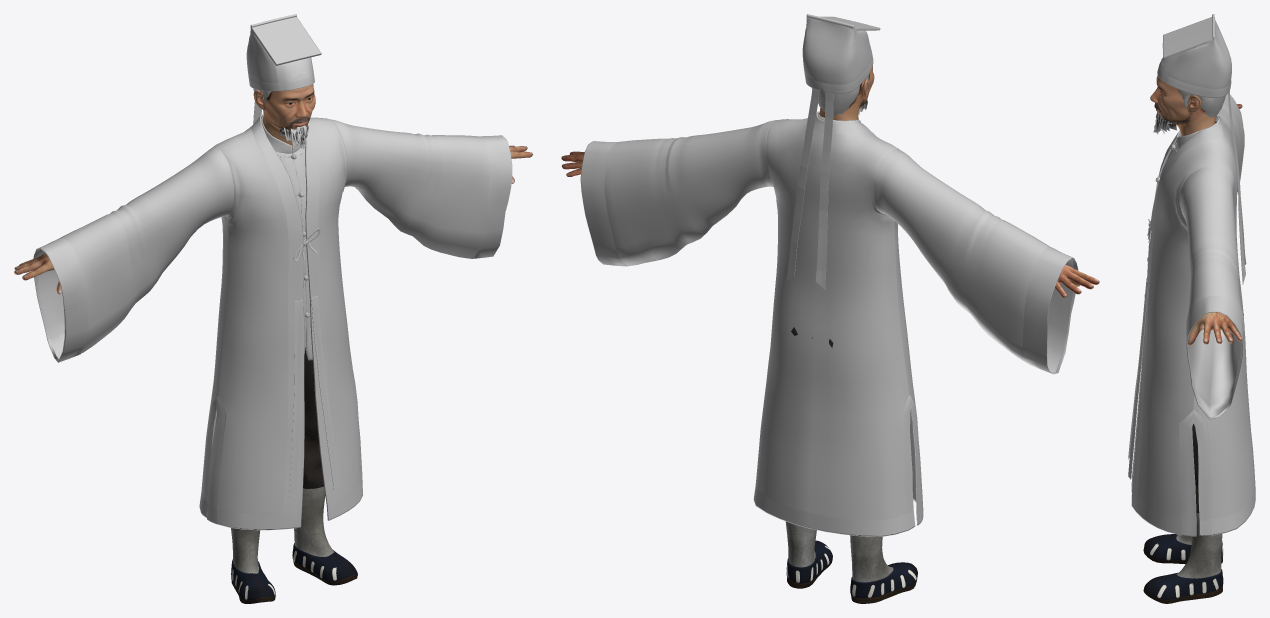
3 views of the same model, side by side, from view 1: azimuth 30°, elevation 25°; view 2: azimuth 150°, elevation 25°; view 3: azimuth 270°, elevation 25° (orthographic). The views are drawn at different scales.
Parts seen in each view (by area): view 1: yifu1, polySurface156, wazi, polySurface157, head1, polySurface1, polySurface136, hand; view 2: yifu1, polySurface156, polySurface157, wazi, hand; view 3: yifu1, polySurface157, head1, wazi, polySurface156, hand, hair, polySurface136, polySurface1, huzi1.
Part boxes in pixels (x1,y1,x2,y2): yifu1: (33,14,512,530); polySurface156: (253,101,340,498); wazi: (231,486,333,573); polySurface157: (231,543,357,603); head1: (253,84,315,148); polySurface1: (261,114,312,360); polySurface136: (303,347,323,488); hand: (14,145,532,294); yifu1: (580,14,1078,536); polySurface156: (787,87,833,289); polySurface157: (786,540,917,603); wazi: (785,521,893,582); hand: (561,151,1099,297); yifu1: (1131,14,1255,536); polySurface157: (1143,534,1223,603); head1: (1150,75,1216,136); wazi: (1176,513,1222,578); polySurface156: (1128,90,1246,479); hand: (1187,104,1242,345); hair: (1160,58,1225,117); polySurface136: (1192,314,1243,513); polySurface1: (1160,115,1220,177); huzi1: (1153,112,1176,134).
Size of the model in its own units: 45.84 by 9.89 by 47.2.
